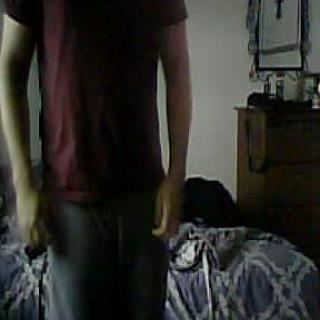Gray Sweatpants: (45, 197, 169, 320)
Maroon T-Shirt: (11, 0, 169, 193)
